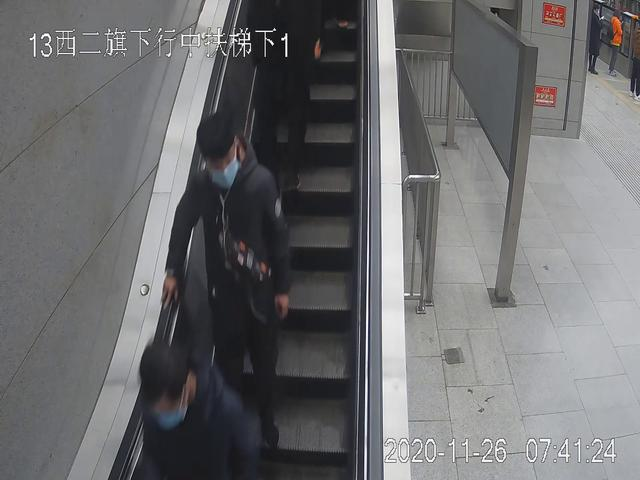person: (163, 119, 294, 452), (585, 3, 603, 78), (607, 13, 624, 76)
